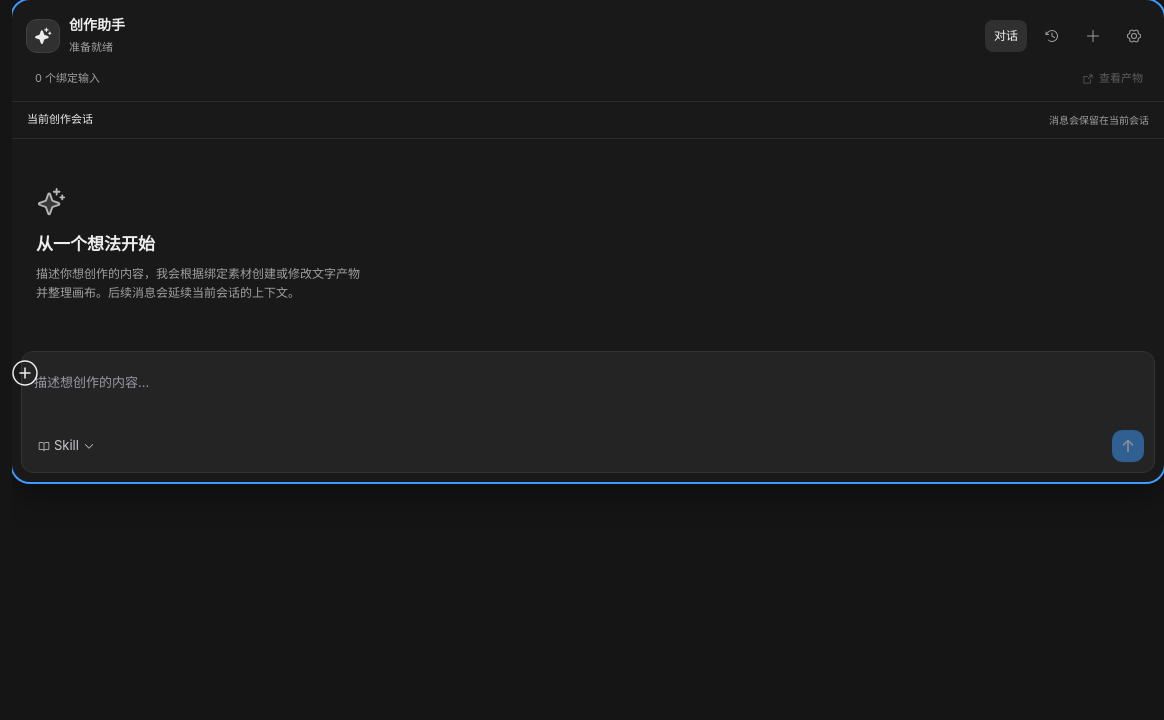
it: AgentChatCard › preserves the draft and blocks creation for missing policy version
The width and height of the screenshot is (1164, 720).
Type "规划三个镜头，生成之前先给我检查。" into the text box named "本次任务".
click(588, 393); type("规划三个镜头，生成之前先给我检查。")  # box [32,362,1144,424]
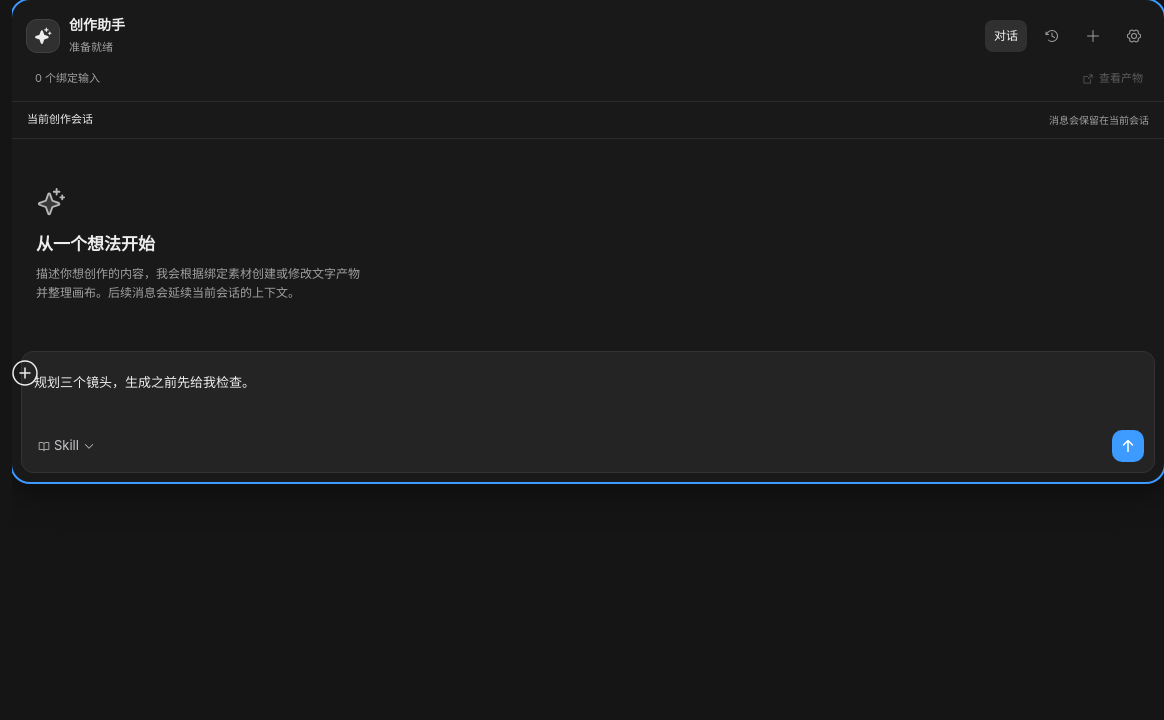
Click the button named "发送".
click(1128, 446)  # box [1112,430,1144,462]
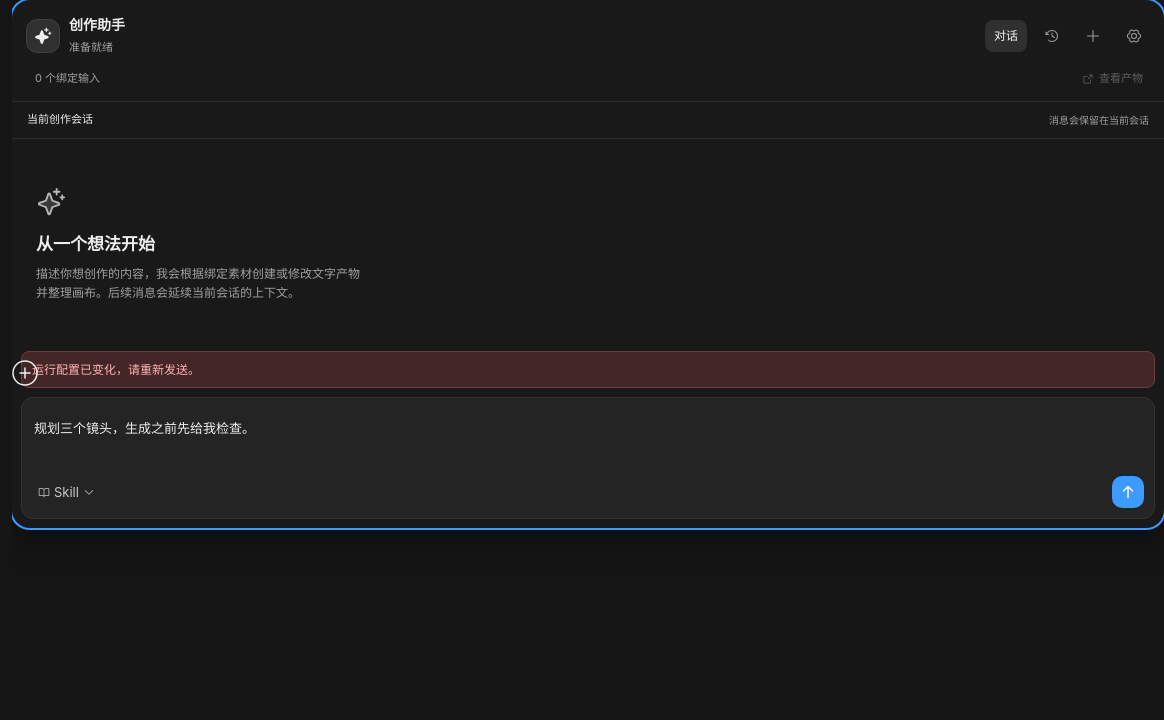
Expected: the message reads "运行配置已变化，请重新发送。", [32,362,200,377]
